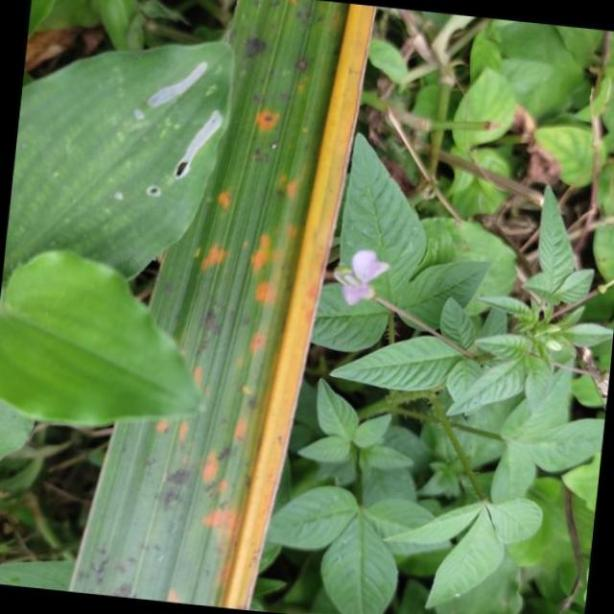Megnesium: (74, 0, 372, 614)
